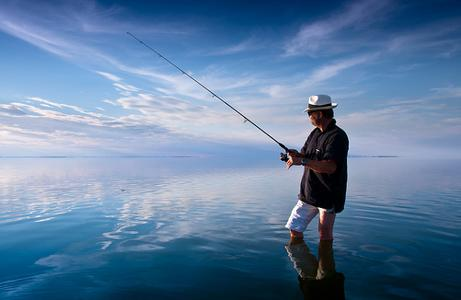person: (286, 95, 350, 242)
